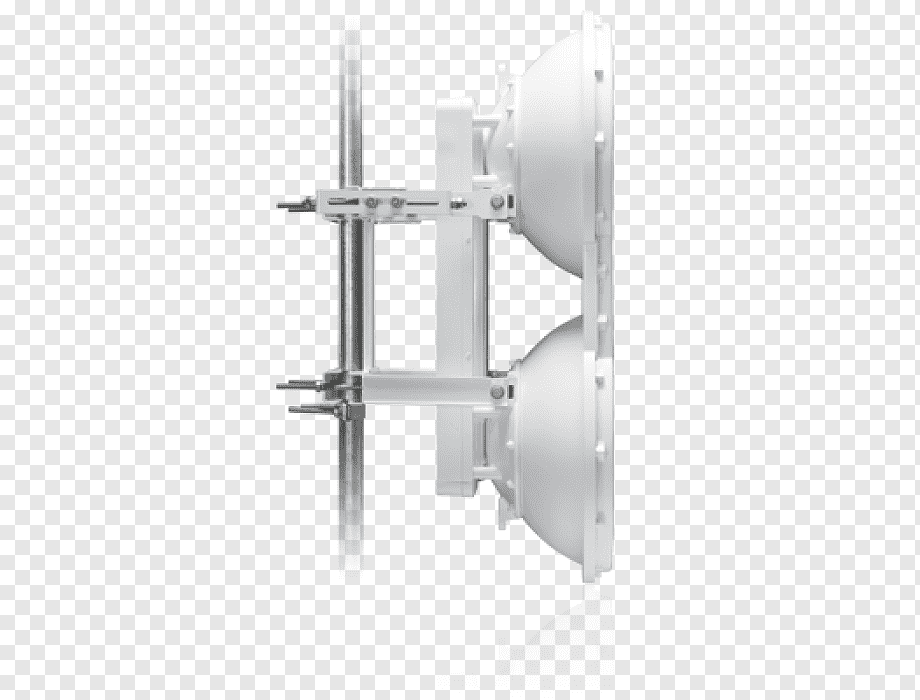ba: (457, 261, 647, 586), (463, 33, 640, 275)
